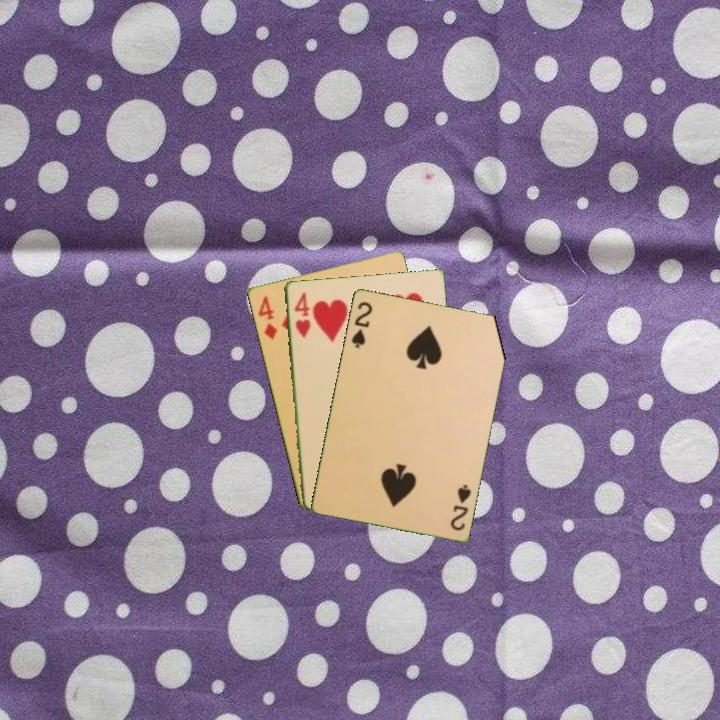2s: (348, 298, 375, 351), (447, 480, 474, 533)
4d: (254, 292, 280, 343)
4h: (290, 288, 312, 340)
